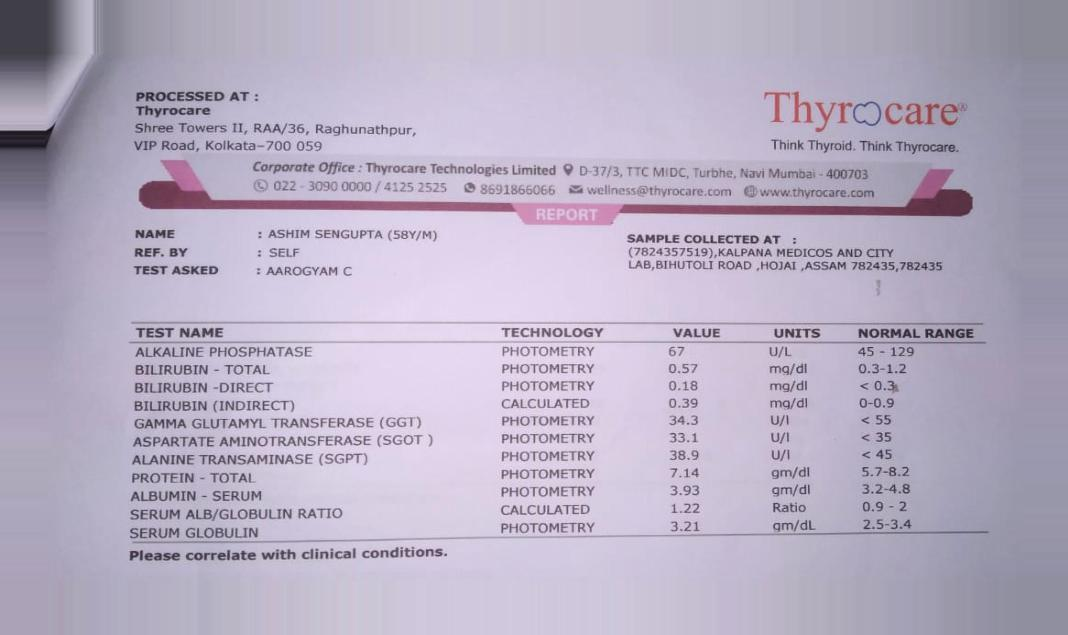Reference Range: (851, 339, 929, 537)
Test Name: (124, 341, 437, 545)
Units: (756, 340, 831, 536)
Value: (656, 340, 720, 538)
